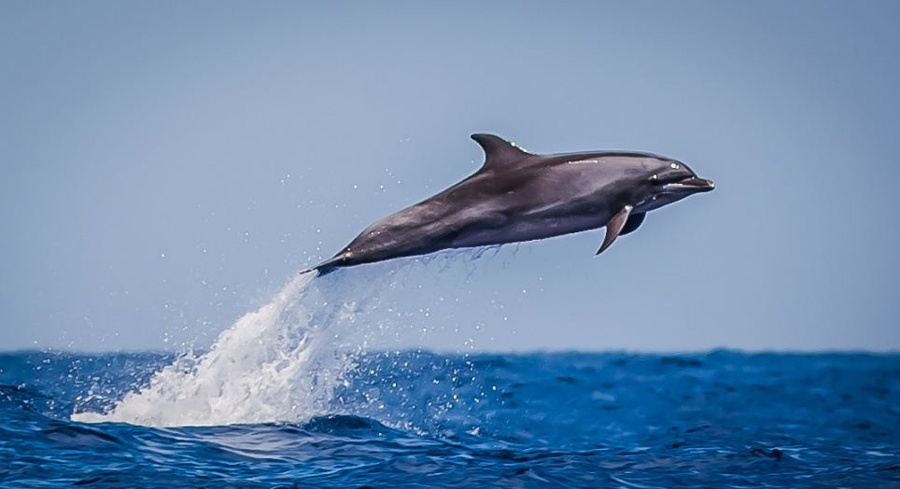fish: (288, 117, 717, 291)
